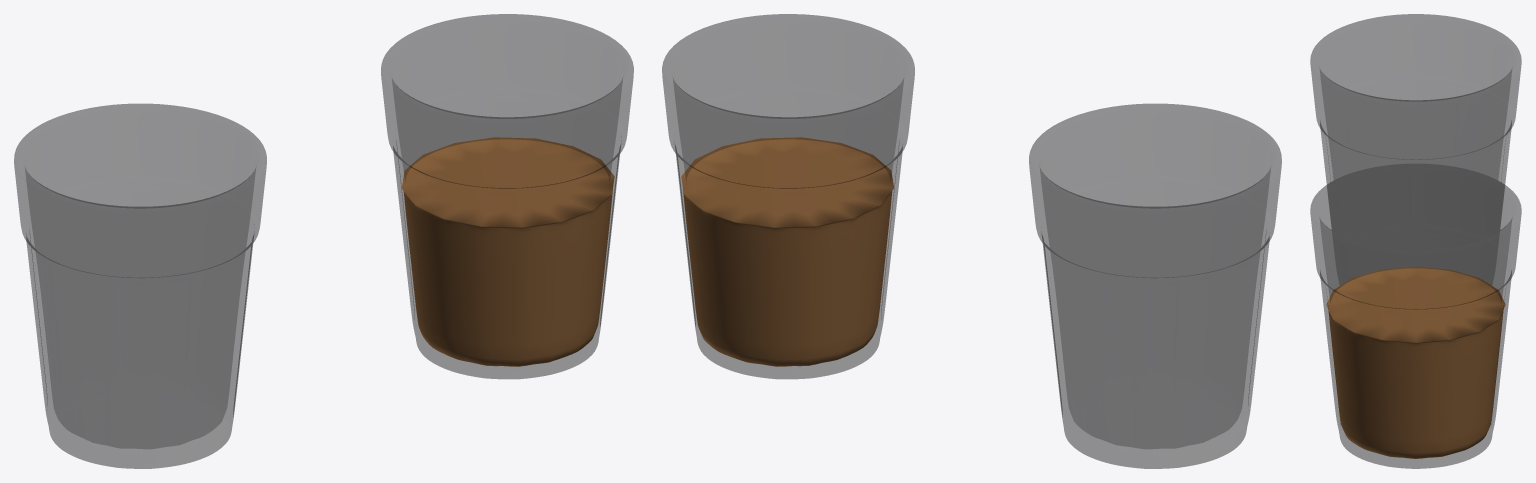
The model's file is chai.glb.
3 renders of one model, left to right at view 1: azimuth 30°, elevation 25°; view 2: azimuth 150°, elevation 25°; view 3: azimuth 270°, elevation 25°, orthographic. The views are drawn at different scales.
Visible parts, largest first — view 1: Cylinder.001_4, Cylinder.002_9, Liquid_5; view 2: Cylinder.001_4, Cylinder.002_9, Liquid_5; view 3: Cylinder.001_4, Cylinder.002_9, Liquid_5.
Boxes of the visible parts, x1,y1,x2,y2 form: Cylinder.001_4: (381,14,633,379); Cylinder.002_9: (14,104,266,468); Liquid_5: (402,137,614,366); Cylinder.001_4: (662,14,914,378); Cylinder.002_9: (1029,104,1281,468); Liquid_5: (681,137,893,366); Cylinder.001_4: (1310,164,1521,468); Cylinder.002_9: (1310,14,1521,249); Liquid_5: (1326,267,1505,458).
Size of what is drawn, in the model's own units: 0.2689 by 0.1219 by 0.1006.
